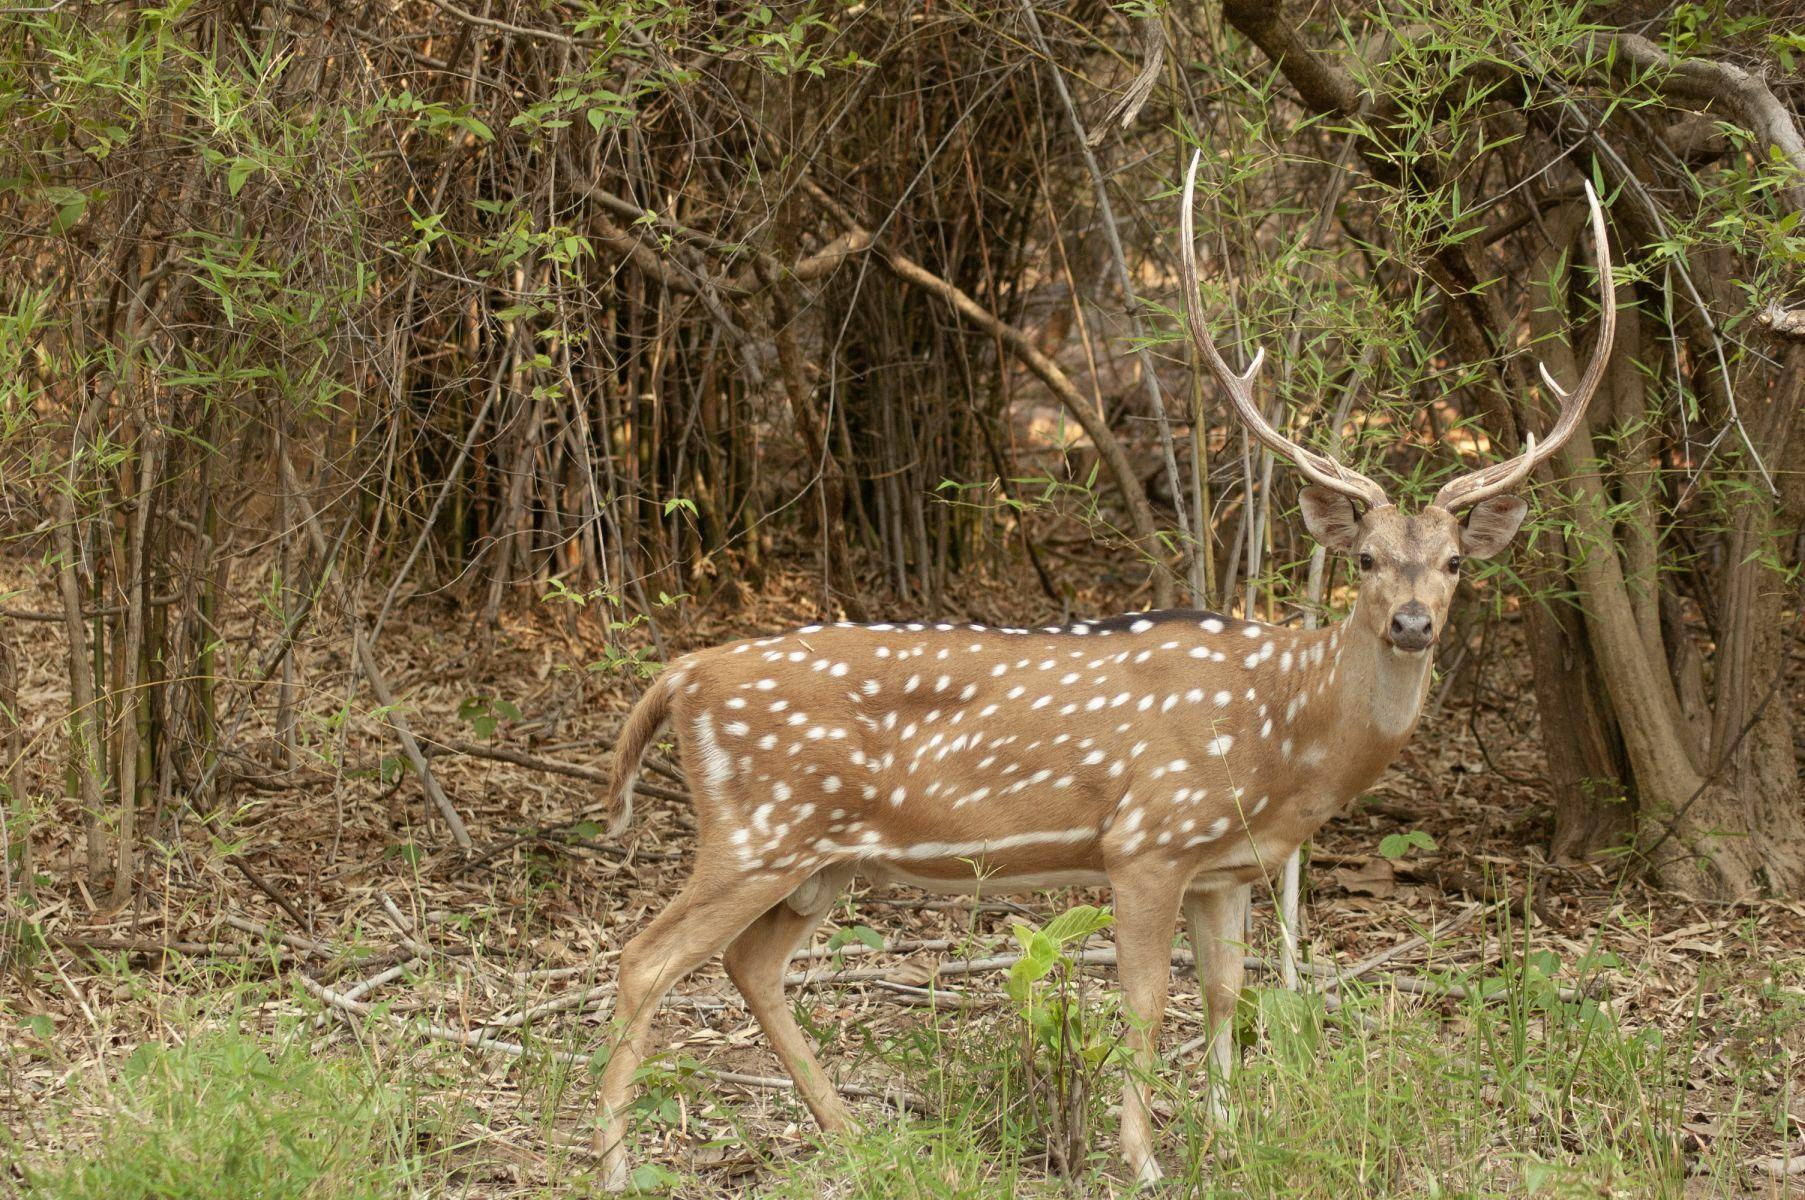Deer: (596, 151, 1614, 1188)
